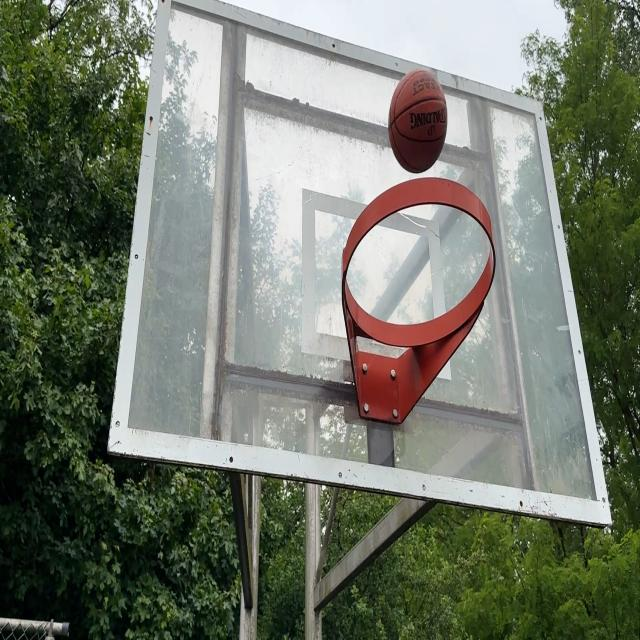Basketball: (392, 66, 449, 174)
